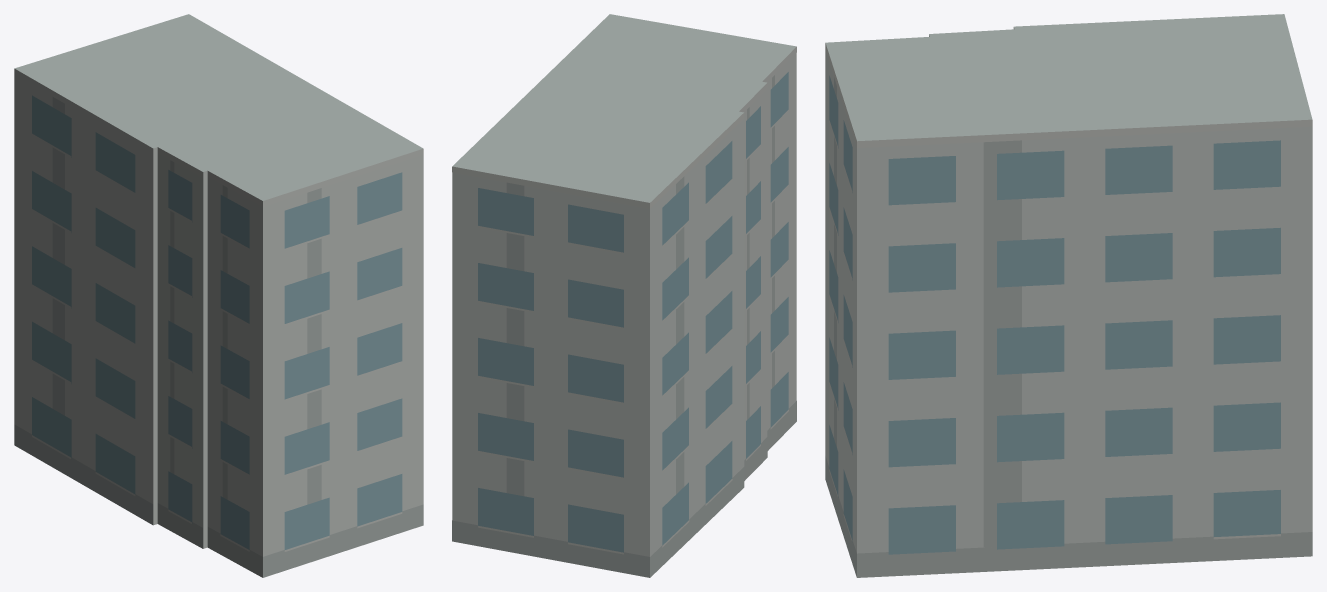
Rendered from survey-upis-32516755.glb.
3 views of the same model, side by side, from view 1: azimuth 30°, elevation 25°; view 2: azimuth 150°, elevation 25°; view 3: azimuth 270°, elevation 25° (orthographic). The views are drawn at different scales.
Visible parts, largest first — view 1: survey-upis-32516755.tmp; view 2: survey-upis-32516755.tmp; view 3: survey-upis-32516755.tmp.
Boxes of the visible parts, x1,y1,x2,y2 form: survey-upis-32516755.tmp: (14, 14, 423, 577); survey-upis-32516755.tmp: (452, 14, 796, 577); survey-upis-32516755.tmp: (825, 14, 1312, 577).
Bounding box in the file's own units: 9.44 × 15.1 × 15.27.
